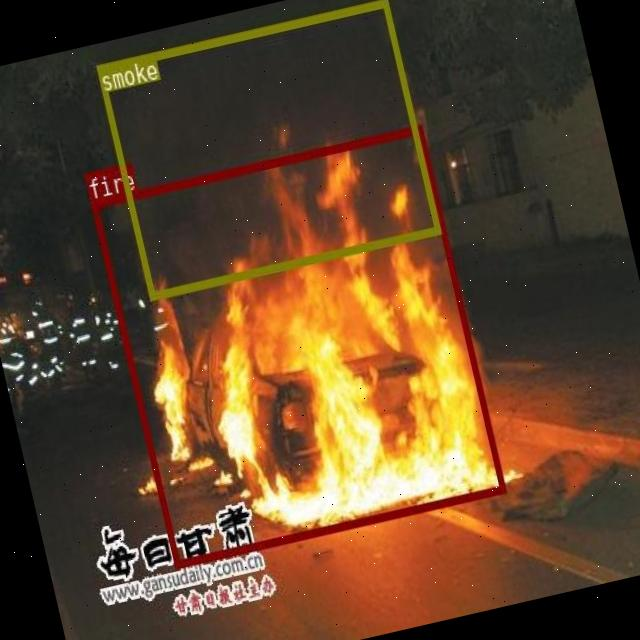fire: (90, 123, 505, 567)
smoke: (95, 0, 440, 299)
